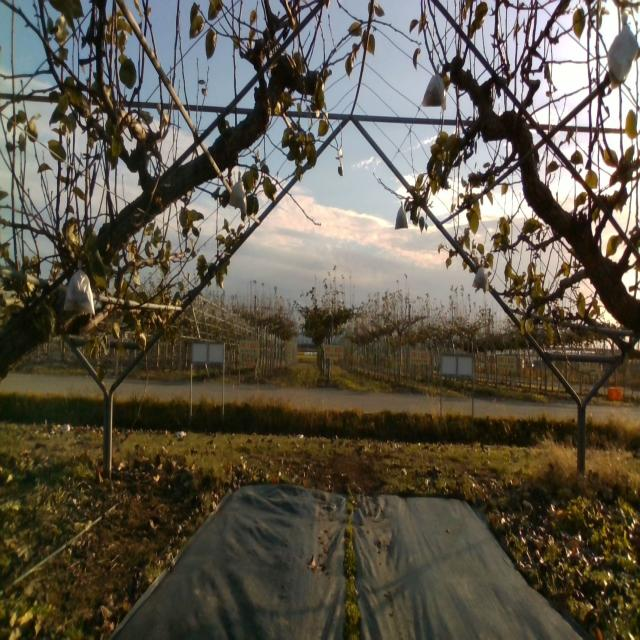pearbags: (608, 13, 638, 88), (62, 259, 95, 317), (422, 72, 446, 109), (229, 172, 248, 215), (471, 263, 489, 291), (394, 200, 408, 230)
